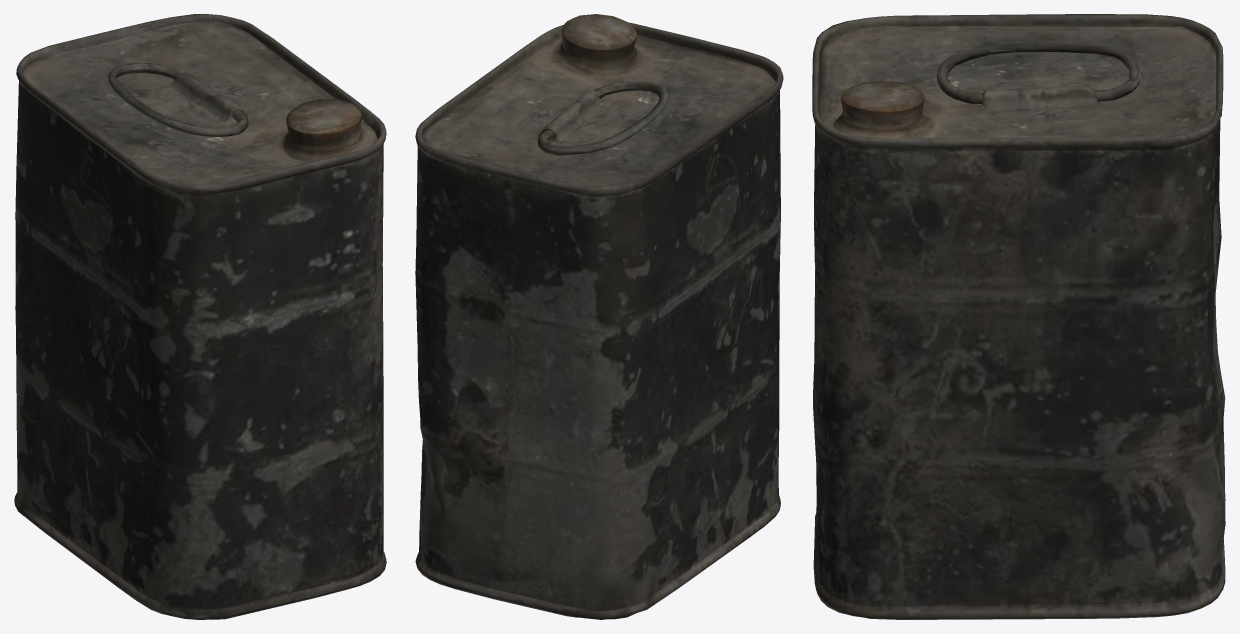
File: oil-tin.glb
3 views of the same model, side by side, from view 1: azimuth 30°, elevation 25°; view 2: azimuth 150°, elevation 25°; view 3: azimuth 270°, elevation 25° (orthographic). The views are drawn at different scales.
Visible parts, largest first — view 1: oil_tin, oil_tin_handle; view 2: oil_tin, oil_tin_handle; view 3: oil_tin, oil_tin_handle.
Boxes of the visible parts, x1,y1,x2,y2 form: oil_tin: (14, 14, 386, 619); oil_tin_handle: (108, 63, 248, 137); oil_tin: (415, 14, 783, 619); oil_tin_handle: (537, 81, 668, 155); oil_tin: (812, 14, 1225, 619); oil_tin_handle: (936, 43, 1141, 103).
Size of the model in its own units: 0.1147 by 0.2054 by 0.1535.
Materials: 1 (1 with a texture image).
